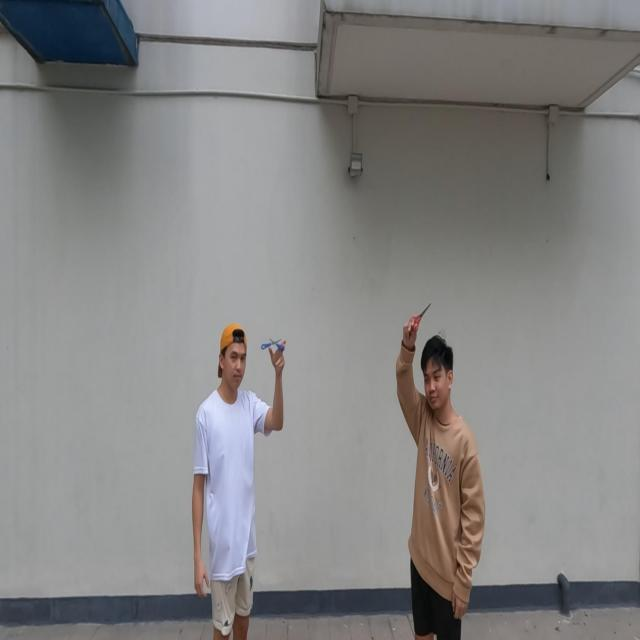scissor: (408, 302, 432, 334), (261, 336, 285, 353)
